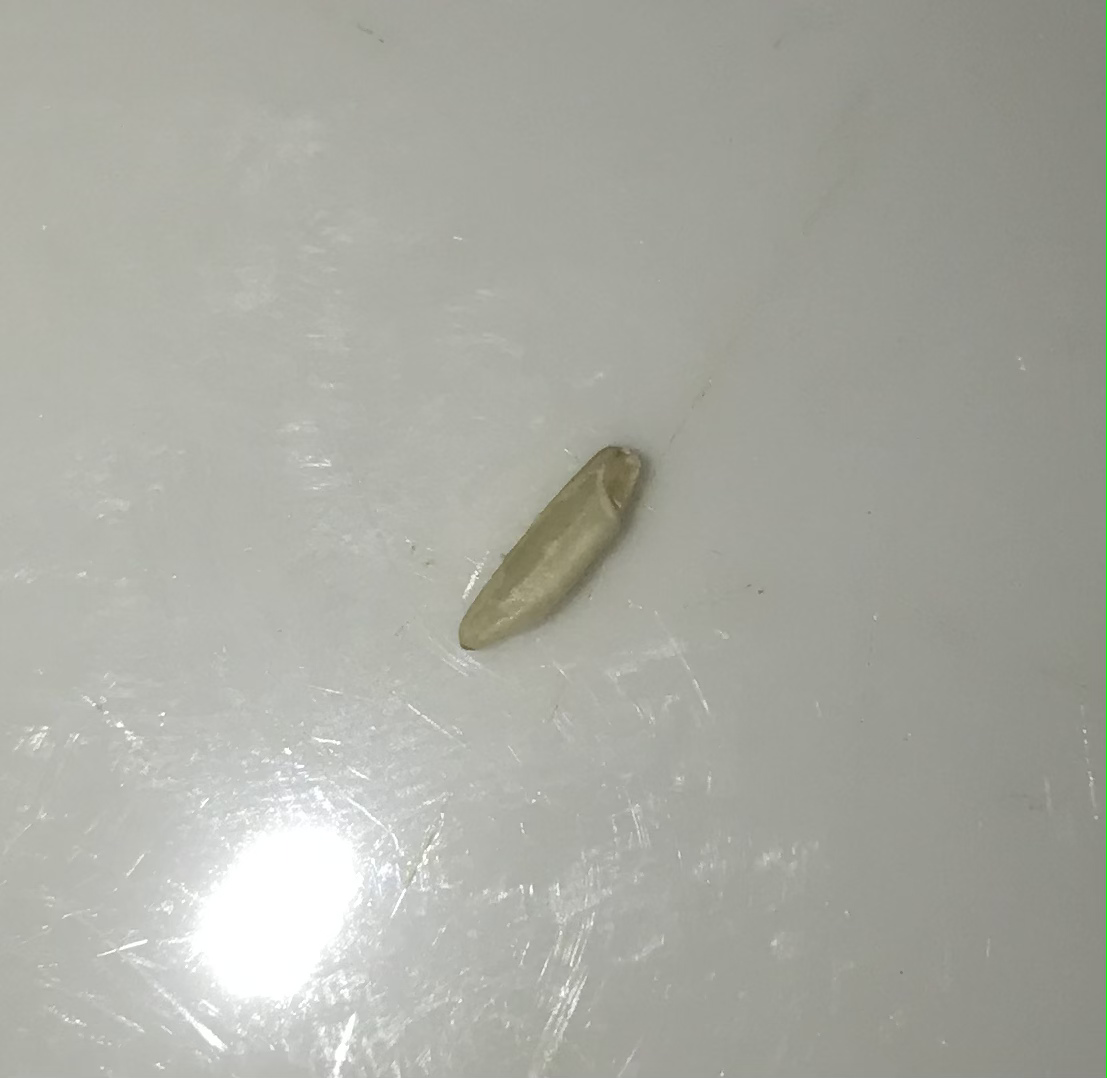Gao Lut Trang: (455, 437, 652, 666)
